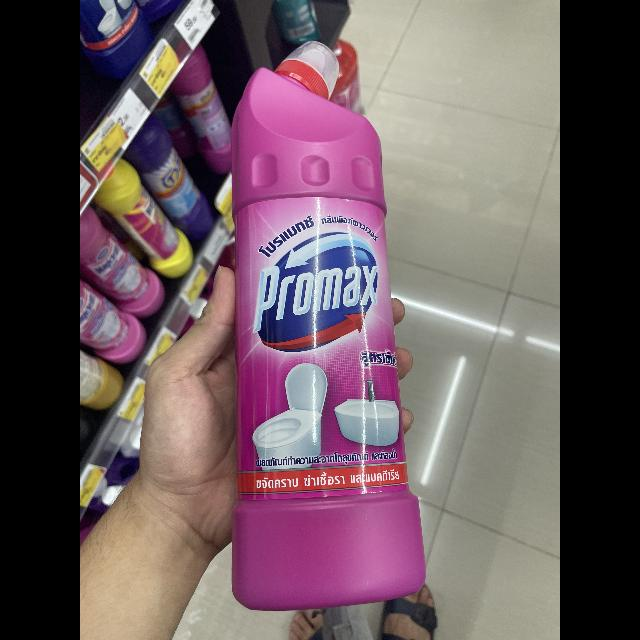chemical_plastic_bottle: (222, 34, 430, 618)
